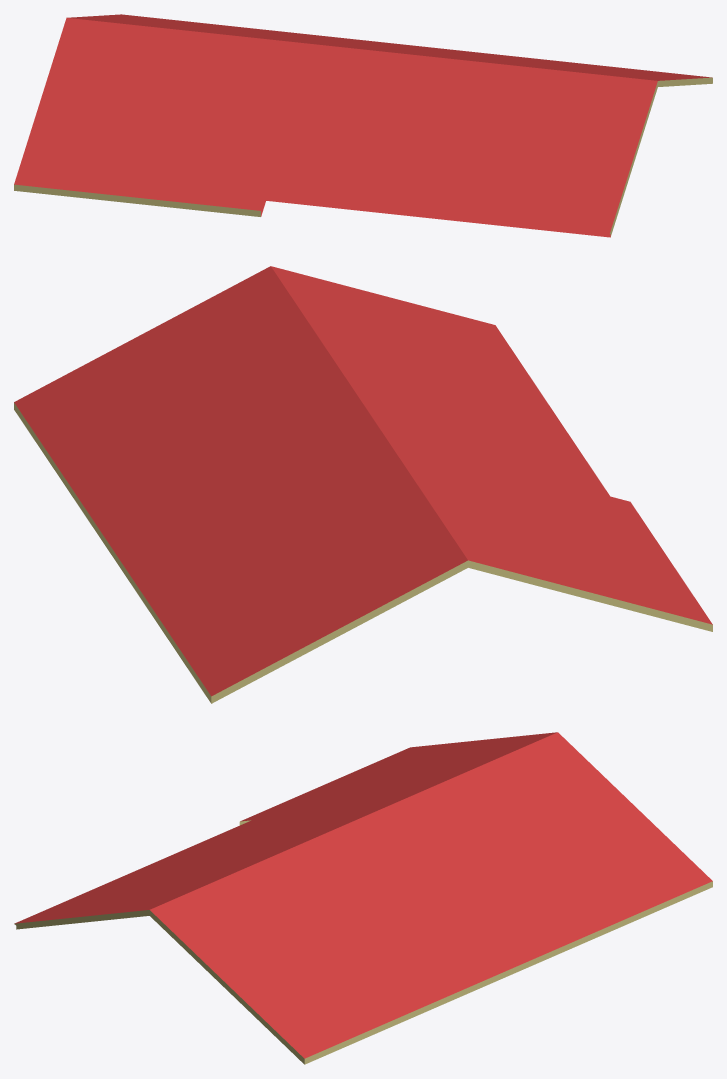
3 views of the same model, one above another, from view 1: azimuth 30°, elevation 25°; view 2: azimuth 150°, elevation 25°; view 3: azimuth 270°, elevation 25° (orthographic). The views are drawn at different scales.
Size of the model in its own units: 10.8 by 10.57 by 1.52.
